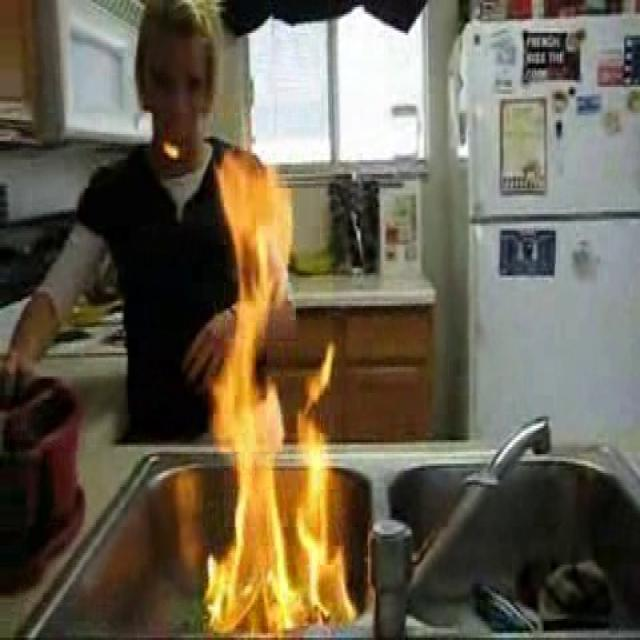fire: (205, 163, 331, 630)
